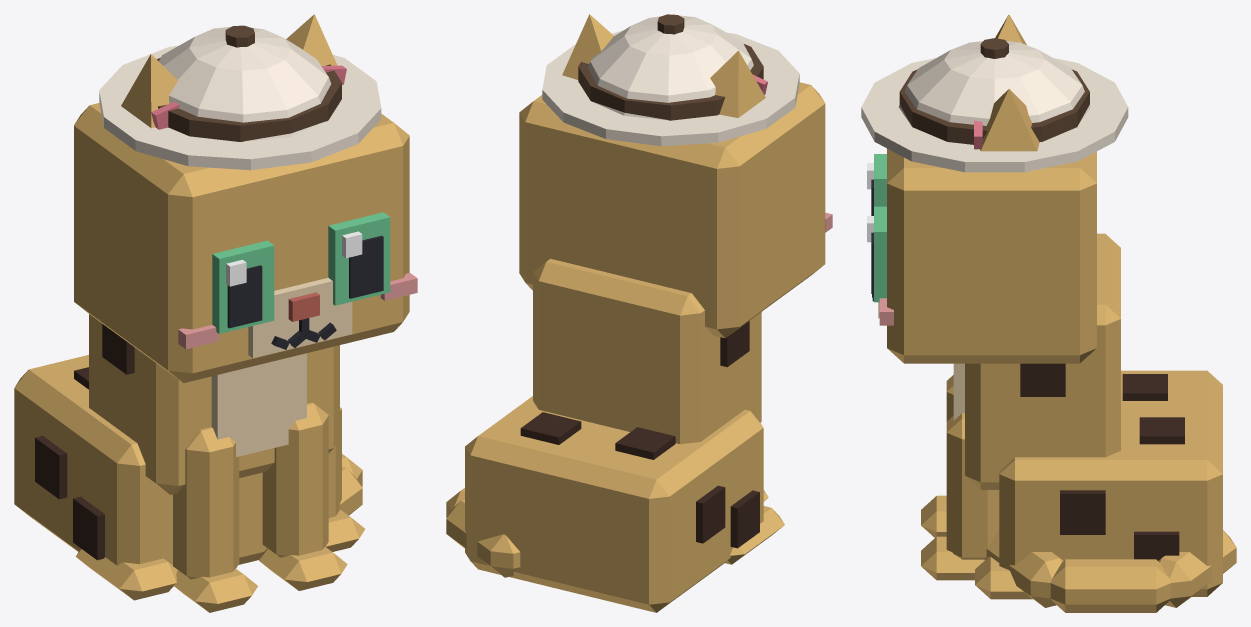
File: CatCafe_Cat_Bengal_Sit.glb
The picture shows the model from 3 angles, left to right: view 1: azimuth 30°, elevation 25°; view 2: azimuth 150°, elevation 25°; view 3: azimuth 270°, elevation 25°; orthographic projection. The views are drawn at different scales.
Parts seen in each view (by area): view 1: CatCafe_Cat_Bengal_Sit_Head, CatCafe_Cat_Bengal_Sit_Body, CatCafe_Cat_Bengal_Sit_Prop, CatCafe_Cat_Bengal_Sit_LegF2, CatCafe_Cat_Bengal_Sit_LegF1, CatCafe_Cat_Bengal_Sit_Eye2, CatCafe_Cat_Bengal_Sit_Eye1, CatCafe_Cat_Bengal_Sit_EarR, CatCafe_Cat_Bengal_Sit_EarL, CatCafe_Cat_Bengal_Sit_Tail; view 2: CatCafe_Cat_Bengal_Sit_Body, CatCafe_Cat_Bengal_Sit_Head, CatCafe_Cat_Bengal_Sit_Prop, CatCafe_Cat_Bengal_Sit_EarR, CatCafe_Cat_Bengal_Sit_Tail, CatCafe_Cat_Bengal_Sit_EarL; view 3: CatCafe_Cat_Bengal_Sit_Body, CatCafe_Cat_Bengal_Sit_Head, CatCafe_Cat_Bengal_Sit_Prop, CatCafe_Cat_Bengal_Sit_Tail, CatCafe_Cat_Bengal_Sit_LegF1, CatCafe_Cat_Bengal_Sit_EarL, CatCafe_Cat_Bengal_Sit_Eye1, CatCafe_Cat_Bengal_Sit_LegF2, CatCafe_Cat_Bengal_Sit_Eye2.
Part boxes in pixels (x1,y1,x2,y2): CatCafe_Cat_Bengal_Sit_Head: (74, 103, 417, 382); CatCafe_Cat_Bengal_Sit_Body: (14, 314, 364, 600); CatCafe_Cat_Bengal_Sit_Prop: (99, 25, 381, 170); CatCafe_Cat_Bengal_Sit_LegF2: (173, 427, 257, 612); CatCafe_Cat_Bengal_Sit_LegF1: (259, 402, 347, 590); CatCafe_Cat_Bengal_Sit_Eye2: (212, 240, 274, 333); CatCafe_Cat_Bengal_Sit_Eye1: (328, 212, 390, 305); CatCafe_Cat_Bengal_Sit_EarR: (121, 54, 179, 129); CatCafe_Cat_Bengal_Sit_EarL: (286, 14, 346, 84); CatCafe_Cat_Bengal_Sit_Tail: (328, 454, 362, 517); CatCafe_Cat_Bengal_Sit_Body: (465, 258, 784, 612); CatCafe_Cat_Bengal_Sit_Head: (519, 82, 832, 338); CatCafe_Cat_Bengal_Sit_Prop: (542, 14, 799, 146); CatCafe_Cat_Bengal_Sit_EarR: (710, 50, 767, 117); CatCafe_Cat_Bengal_Sit_Tail: (446, 488, 520, 577); CatCafe_Cat_Bengal_Sit_EarL: (562, 14, 613, 79); CatCafe_Cat_Bengal_Sit_Body: (953, 233, 1222, 599); CatCafe_Cat_Bengal_Sit_Head: (872, 148, 1096, 363); CatCafe_Cat_Bengal_Sit_Prop: (861, 38, 1128, 172); CatCafe_Cat_Bengal_Sit_Tail: (985, 529, 1236, 612); CatCafe_Cat_Bengal_Sit_LegF1: (921, 413, 999, 580); CatCafe_Cat_Bengal_Sit_EarL: (974, 89, 1039, 151); CatCafe_Cat_Bengal_Sit_Eye1: (867, 206, 886, 302); CatCafe_Cat_Bengal_Sit_LegF2: (921, 375, 953, 537); CatCafe_Cat_Bengal_Sit_Eye2: (867, 154, 886, 215).
Size of the model in its own units: 1.02 by 1.88 by 1.26.
Materials: 1 (1 with a texture image).
